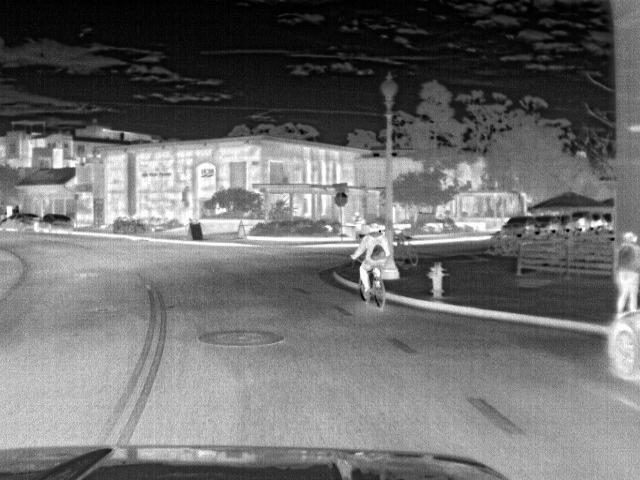car: (604, 311, 638, 382), (33, 213, 76, 232), (3, 210, 40, 232), (499, 216, 541, 235), (533, 214, 562, 233)
person: (351, 227, 389, 298), (610, 230, 639, 317)
